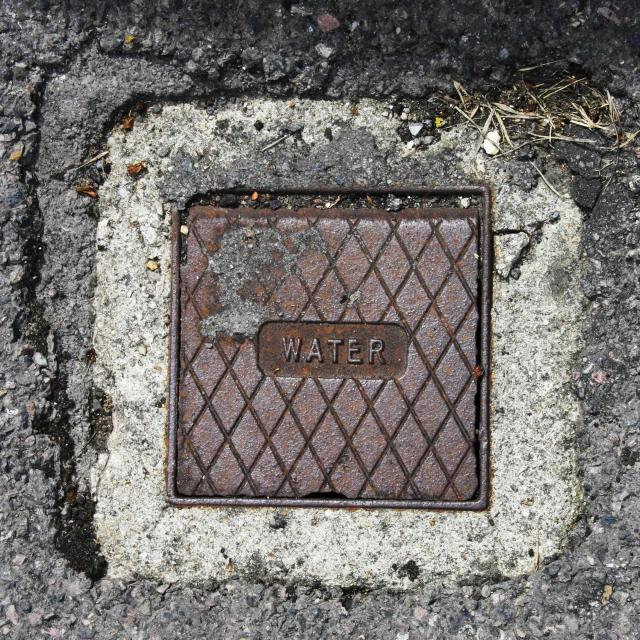manhole: (177, 206, 479, 501)
